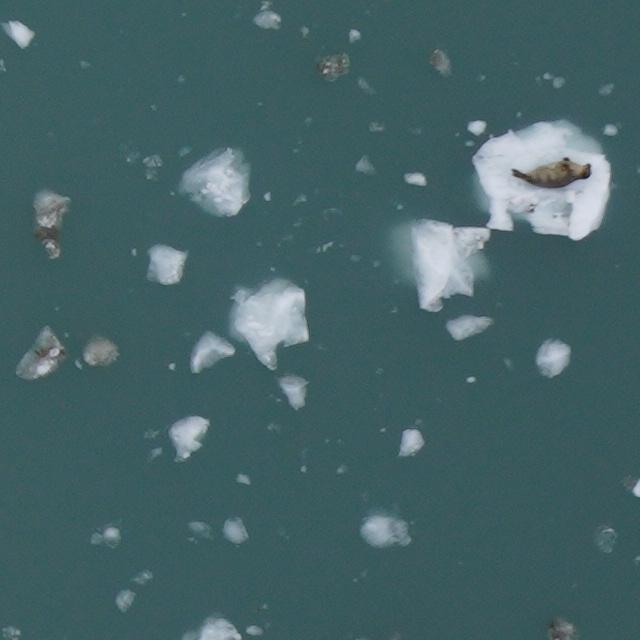seal: (507, 154, 597, 193)
